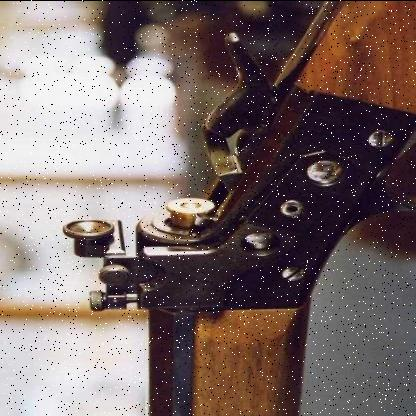rifle: (49, 10, 410, 416)
